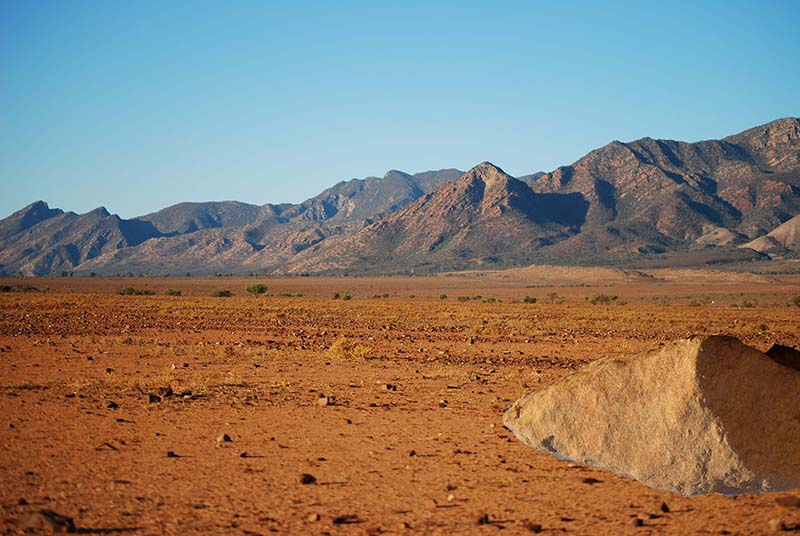Rocks: (500, 331, 800, 497)
